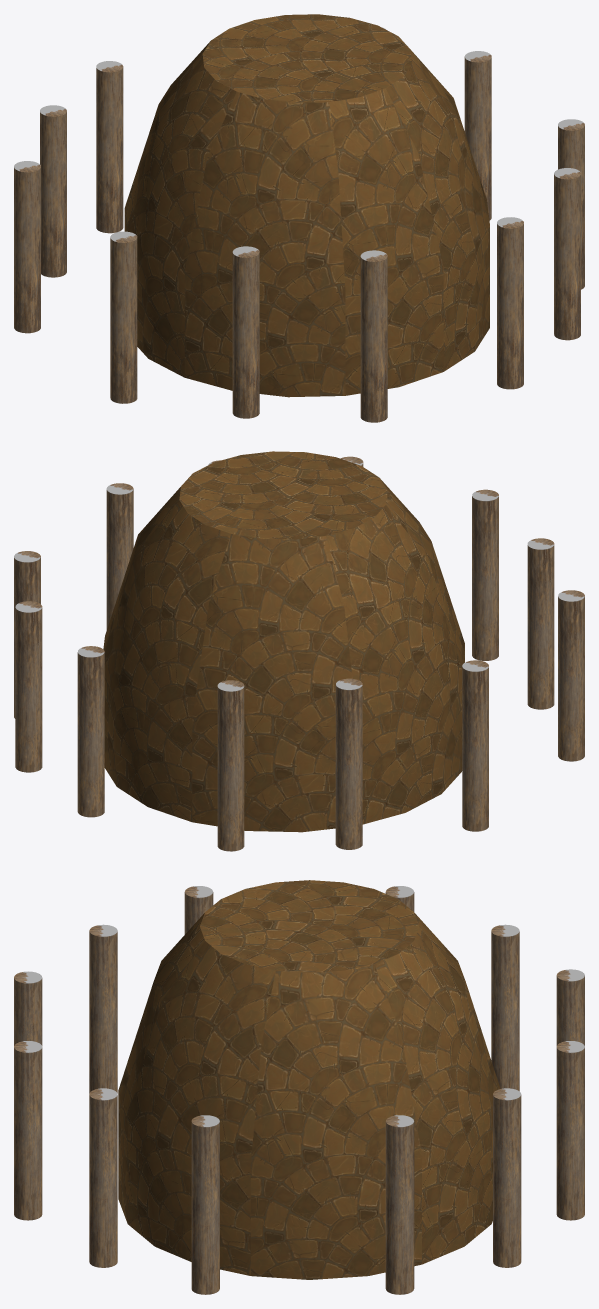
File: Botswana.fbx
3 views of the same model, one above another, from view 1: azimuth 30°, elevation 25°; view 2: azimuth 150°, elevation 25°; view 3: azimuth 270°, elevation 25° (orthographic). The views are drawn at different scales.
Visible parts, largest first — view 1: pCylinder1, pCylinder14, pCylinder8, pCylinder9, pCylinder12, pCylinder10, pCylinder7, pCylinder15, pCylinder13, pCylinder6, pCylinder5; view 2: pCylinder1, pCylinder12, pCylinder16, pCylinder13, pCylinder14, pCylinder11, pCylinder7, pCylinder8, pCylinder9, pCylinder5, pCylinder6; view 3: pCylinder1, pCylinder6, pCylinder5, pCylinder16, pCylinder10, pCylinder11, pCylinder15, pCylinder14, pCylinder13, pCylinder12, pCylinder9, pCylinder8.
Boxes of the visible parts, bbox=[...] form: pCylinder1: bbox=[124, 14, 489, 397]; pCylinder14: bbox=[232, 246, 259, 418]; pCylinder8: bbox=[110, 231, 137, 403]; pCylinder9: bbox=[360, 250, 387, 422]; pCylinder12: bbox=[96, 61, 123, 233]; pCylinder10: bbox=[497, 217, 523, 389]; pCylinder7: bbox=[14, 161, 40, 333]; pCylinder15: bbox=[554, 168, 580, 340]; pCylinder13: bbox=[40, 105, 66, 277]; pCylinder6: bbox=[464, 51, 491, 220]; pCylinder5: bbox=[558, 119, 584, 289]; pCylinder1: bbox=[103, 451, 464, 832]; pCylinder12: bbox=[217, 680, 244, 851]; pCylinder16: bbox=[15, 601, 42, 772]; pCylinder13: bbox=[335, 678, 362, 849]; pCylinder14: bbox=[527, 538, 554, 709]; pCylinder11: bbox=[77, 646, 104, 817]; pCylinder7: bbox=[462, 660, 488, 831]; pCylinder8: bbox=[558, 590, 584, 761]; pCylinder9: bbox=[472, 489, 498, 660]; pCylinder5: bbox=[106, 483, 133, 629]; pCylinder6: bbox=[14, 551, 40, 718]; pCylinder1: bbox=[118, 880, 500, 1279]; pCylinder6: bbox=[385, 1115, 414, 1294]; pCylinder5: bbox=[191, 1115, 219, 1294]; pCylinder16: bbox=[493, 1088, 521, 1267]; pCylinder10: bbox=[14, 1041, 42, 1220]; pCylinder11: bbox=[556, 1041, 584, 1220]; pCylinder15: bbox=[89, 1088, 117, 1267]; pCylinder14: bbox=[89, 924, 117, 1093]; pCylinder13: bbox=[491, 924, 519, 1091]; pCylinder12: bbox=[556, 969, 584, 1045]; pCylinder9: bbox=[14, 971, 42, 1045]; pCylinder8: bbox=[184, 886, 213, 934].
Bounding box in the file's own units: 2.98 × 1.57 × 2.98.
